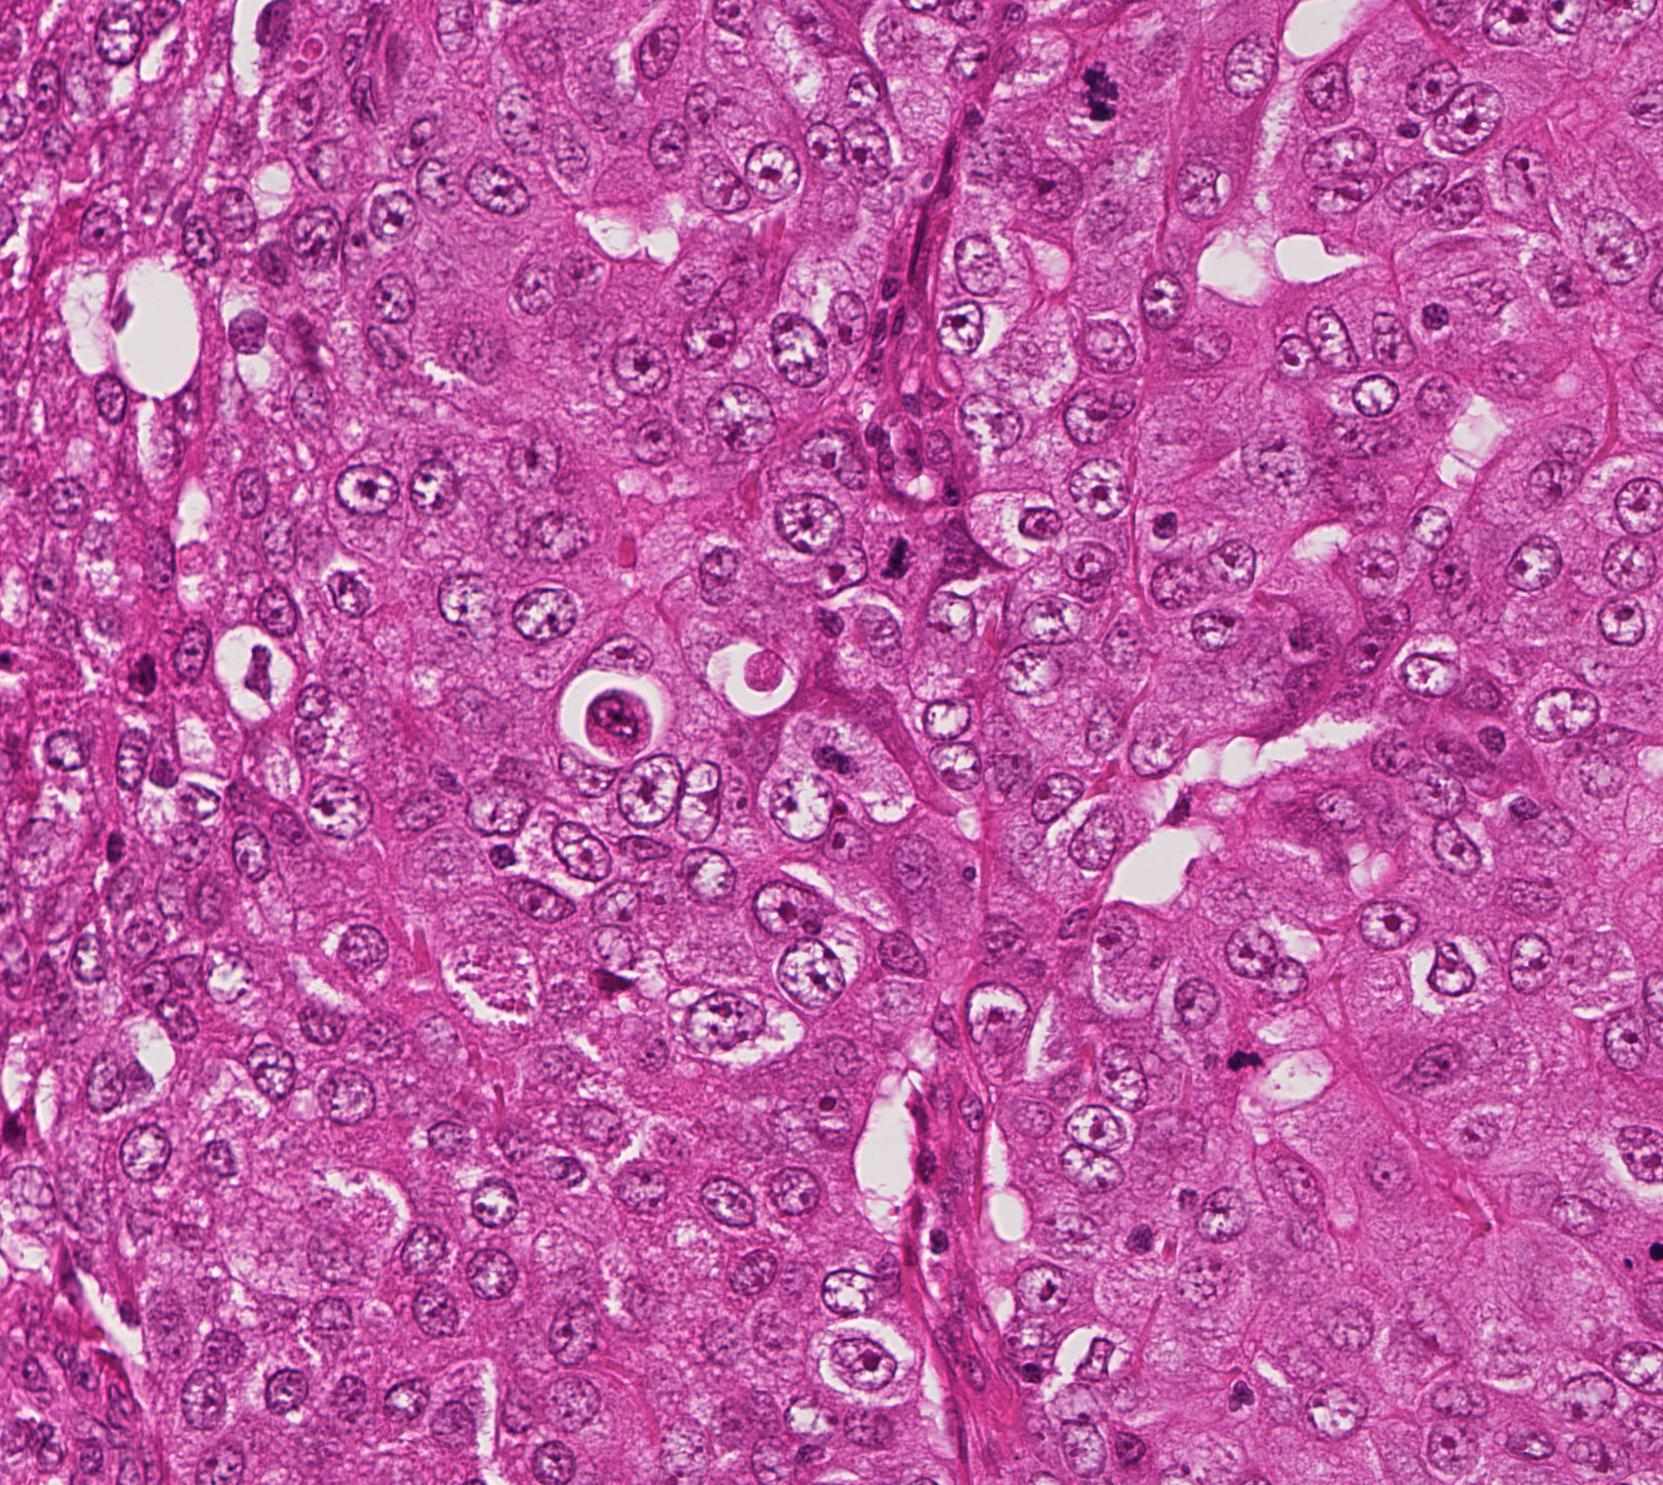mitosis: (1203, 1023, 1263, 1084), (1084, 65, 1144, 125), (863, 527, 923, 588)
